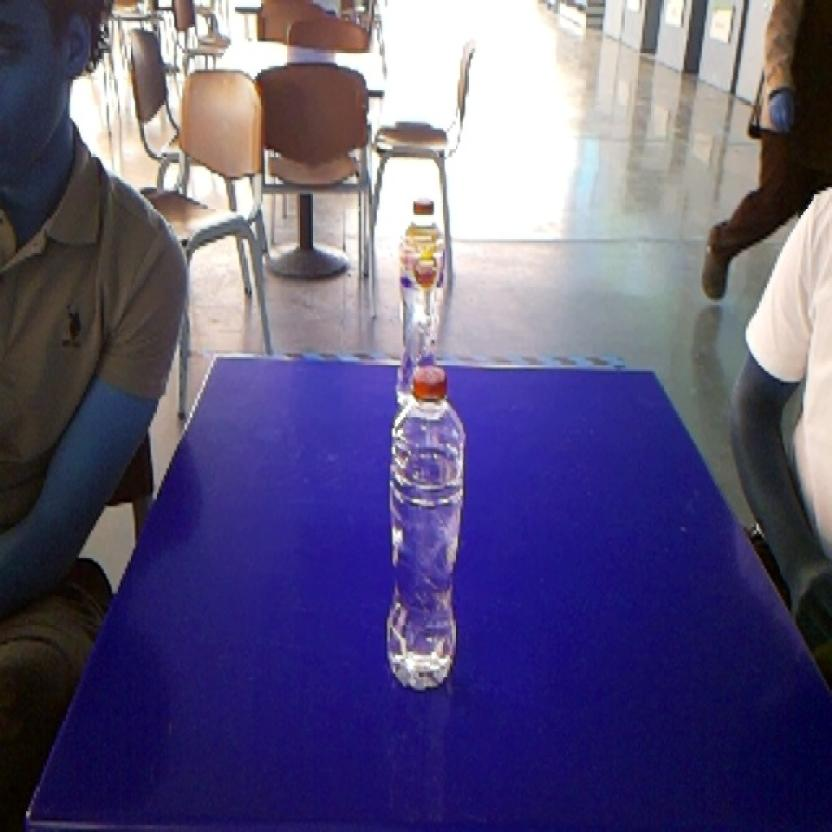good: (388, 183, 454, 366)
no_label: (376, 359, 473, 696)
